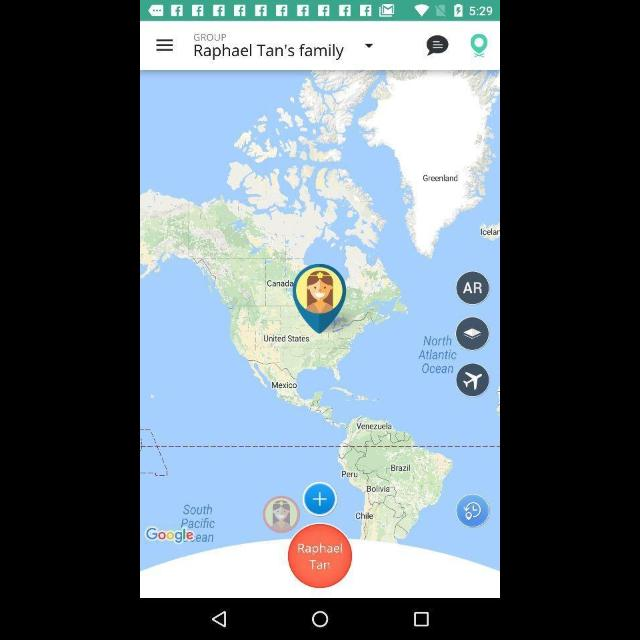icon: (426, 34, 450, 58), (470, 32, 488, 59), (310, 610, 330, 630), (210, 609, 228, 629), (154, 37, 176, 53), (414, 611, 430, 627)
map: (142, 71, 498, 596)
panel: (141, 600, 499, 638)
text: (194, 32, 228, 42)
textbutton: (192, 43, 374, 59)
toolbar: (141, 21, 499, 69)
uppertaskbar: (142, 2, 498, 20)
